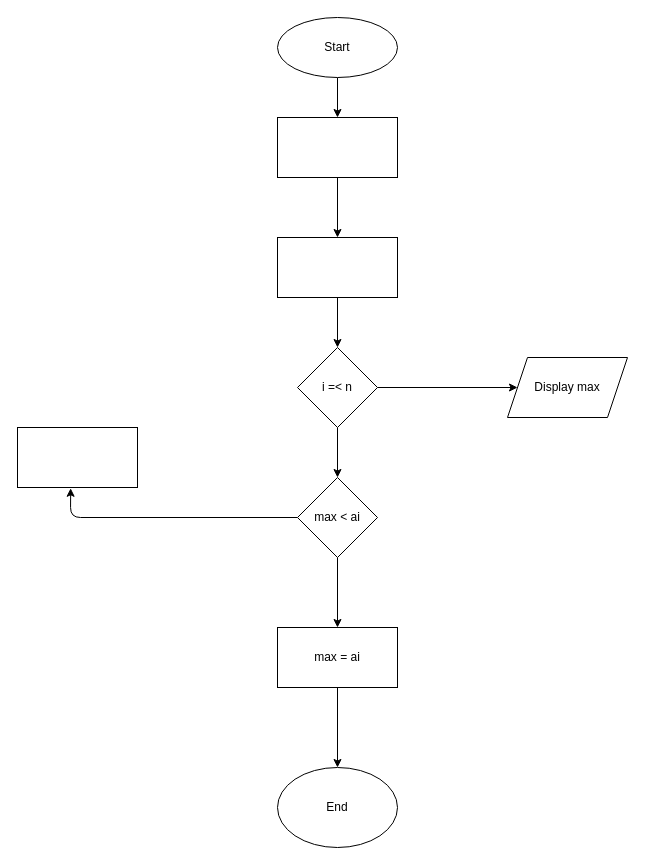
This 645x865 diagram has some shape labels left out. The shapes that lost their labels are listed below. From the top down, each one's centre as x and y in pixels, then its label:
At (x=337, y=147): "INPUT a0, a1,.....,an".
At (x=337, y=267): "i = 0 max = a1".
At (x=77, y=457): "i = i+1".
